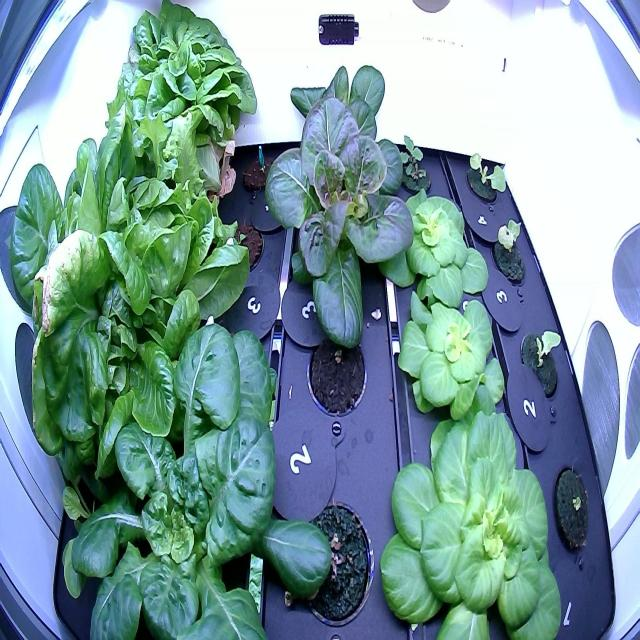Ready: (2, 118, 260, 484), (91, 0, 263, 224)
germination: (290, 489, 380, 636), (549, 456, 598, 566), (214, 212, 267, 282), (239, 143, 285, 201)
pod: (300, 320, 371, 424)
young: (57, 314, 336, 638), (368, 389, 564, 638), (262, 96, 419, 355), (266, 48, 409, 216), (393, 283, 514, 435), (370, 178, 493, 316), (515, 322, 565, 413), (462, 142, 514, 216), (485, 212, 532, 293)
